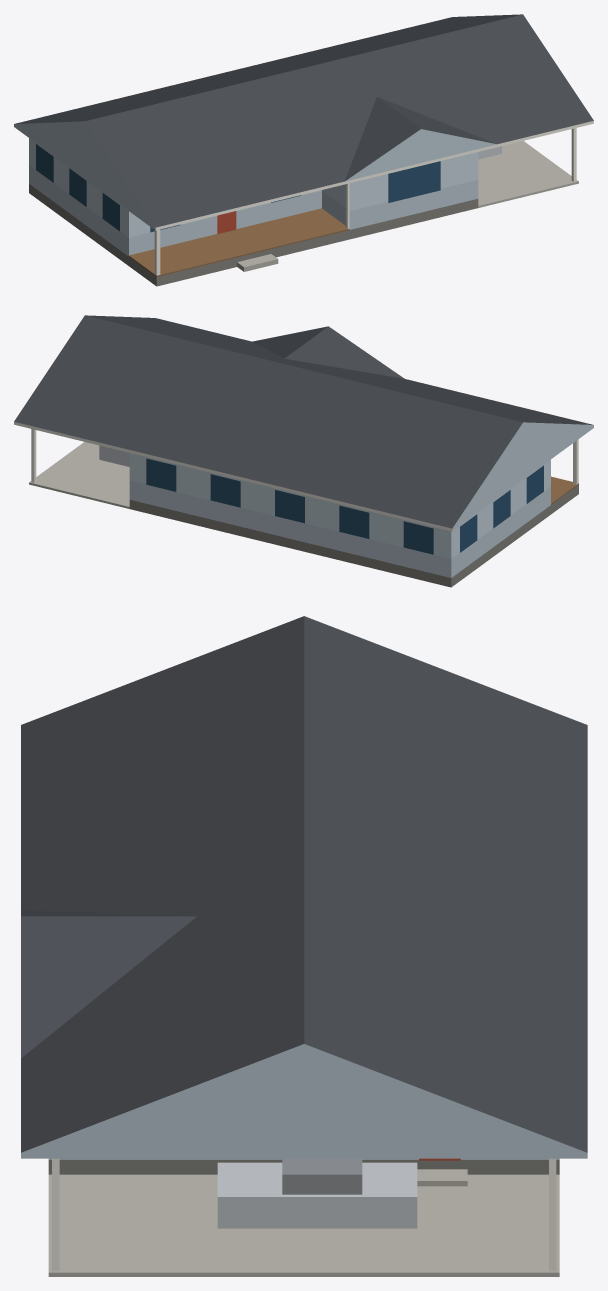
Rendered from house_21x11_lod1.glb.
3 renders of one model, top to bottom at view 1: azimuth 30°, elevation 25°; view 2: azimuth 150°, elevation 25°; view 3: azimuth 270°, elevation 25°, orthographic. The views are drawn at different scales.
Visible parts, largest first — view 1: house; view 2: house; view 3: house.
Boxes of the visible parts, box(x1,y1,x2,y2) form: house: box(14, 14, 593, 286); house: box(14, 315, 593, 587); house: box(21, 616, 587, 1276).
Bounding box in the file's own units: 21.8 × 5.72 × 12.21.
